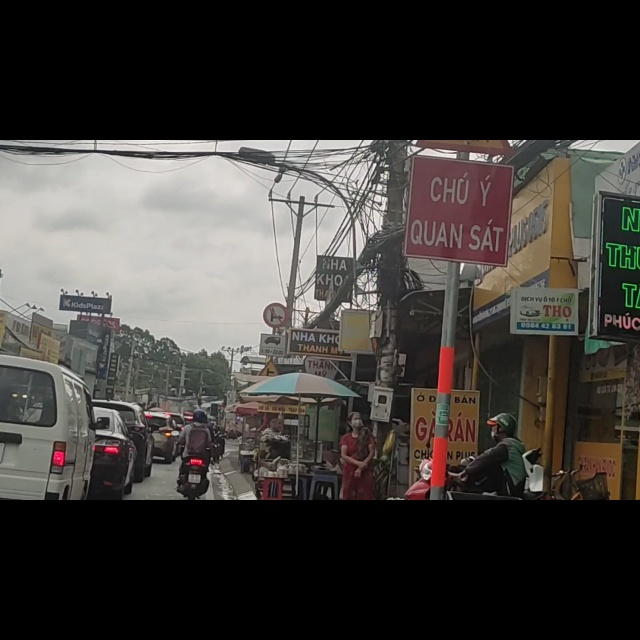bien_cam: (260, 287, 289, 338), (258, 344, 289, 382), (256, 385, 284, 421)
